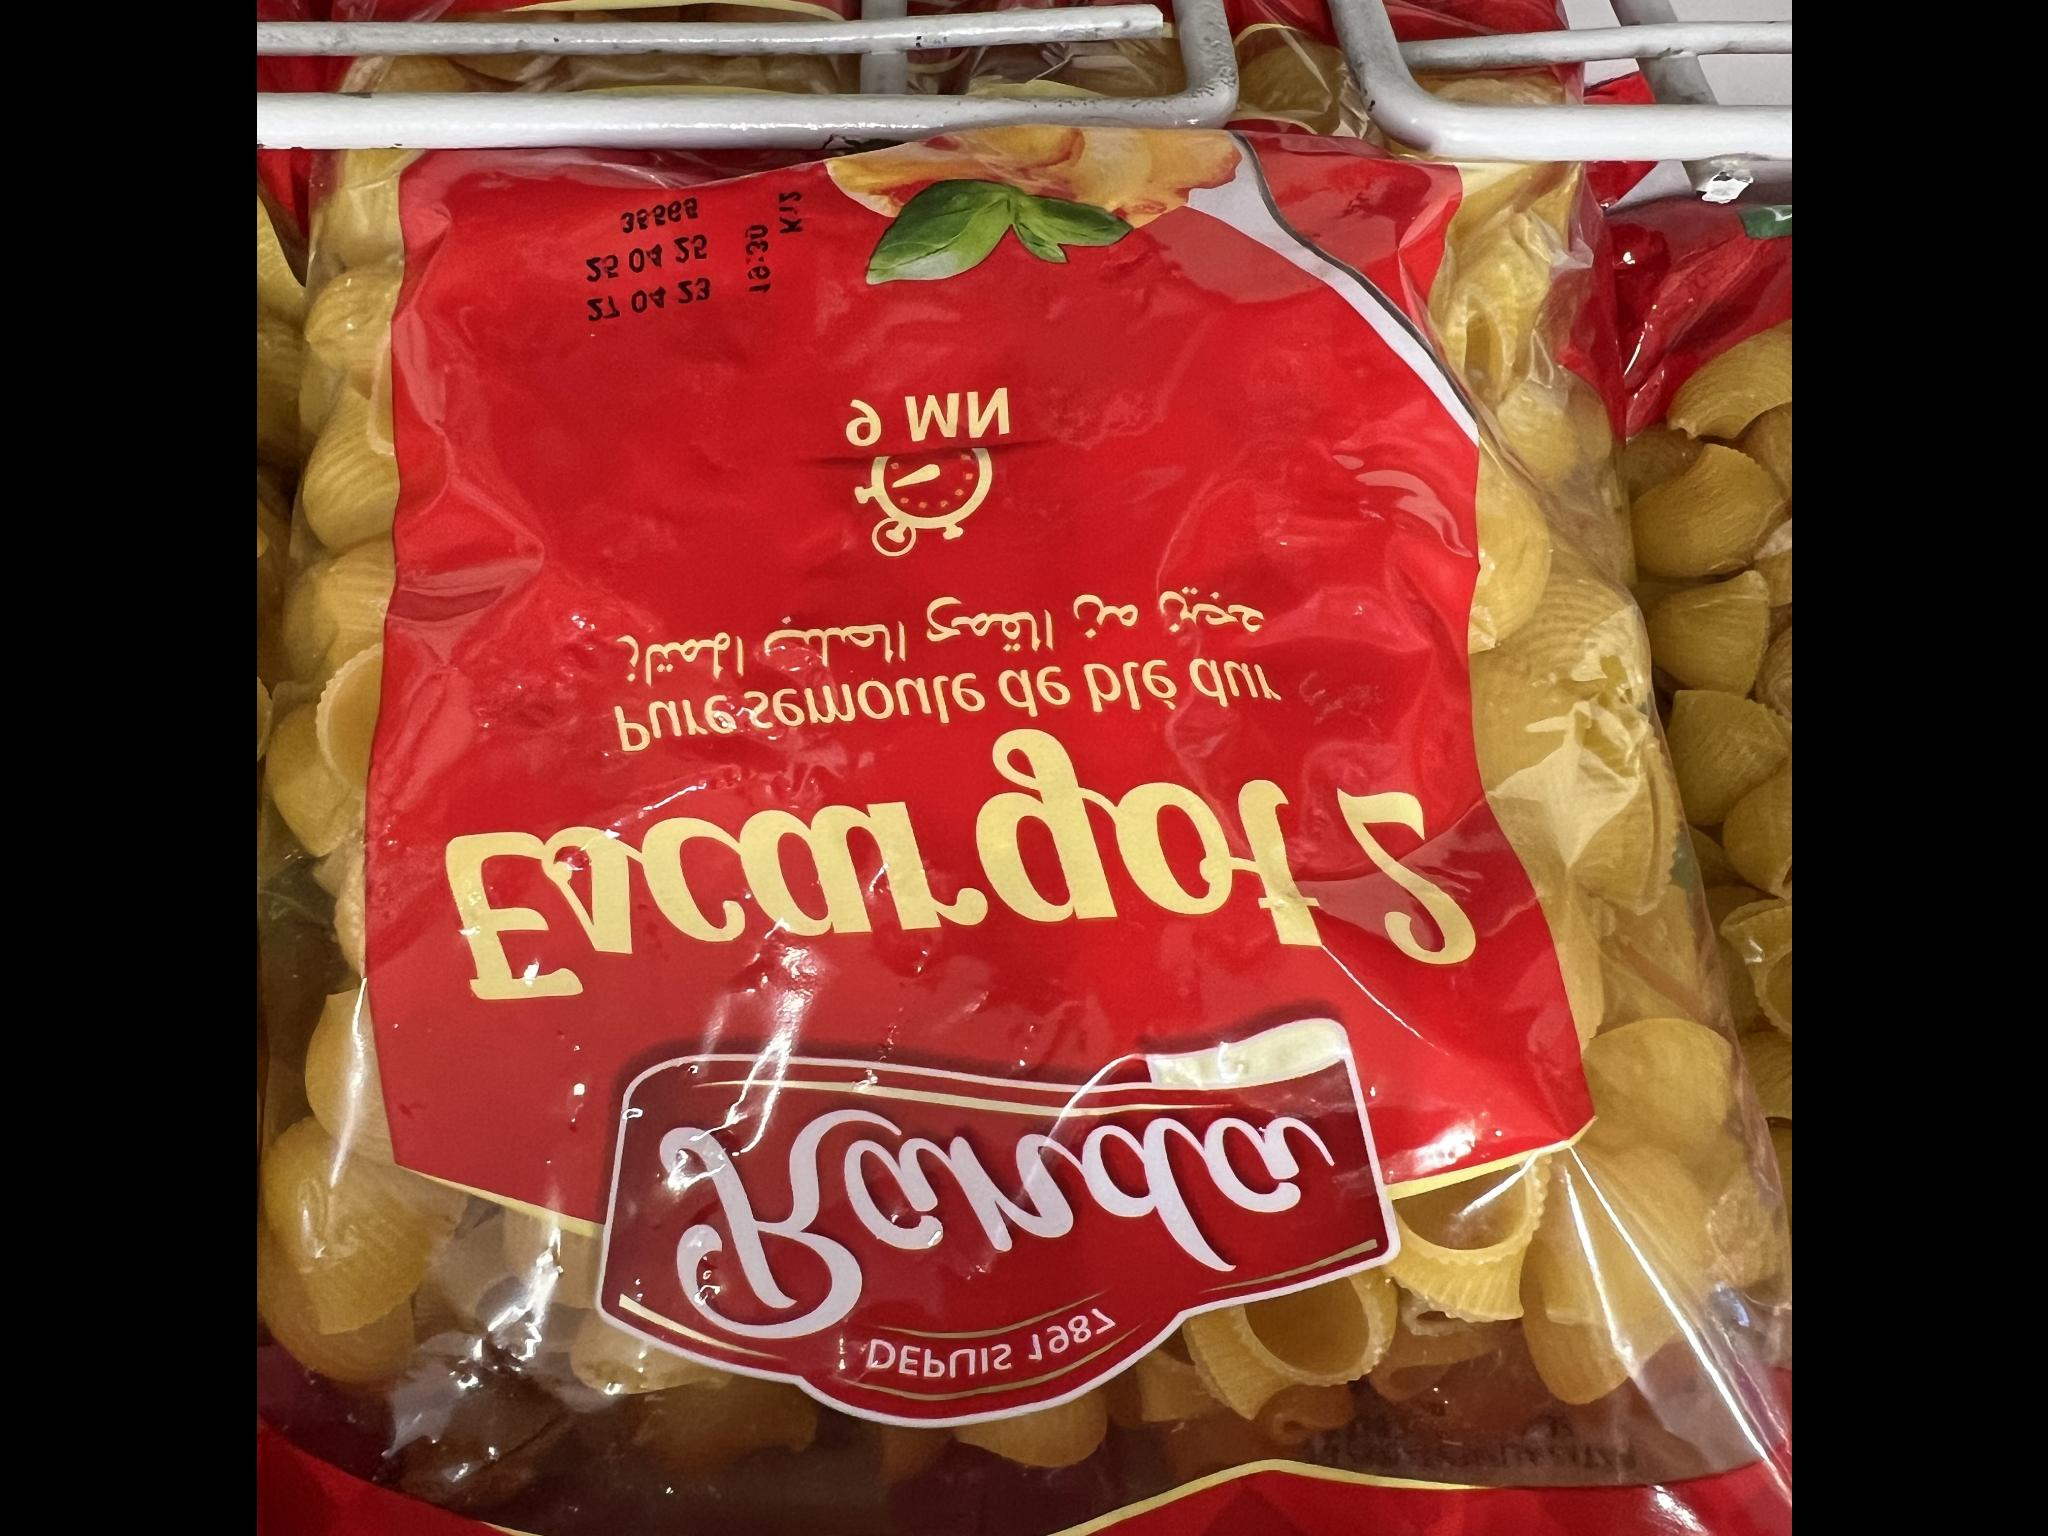Escargot: (284, 0, 1634, 1536)
